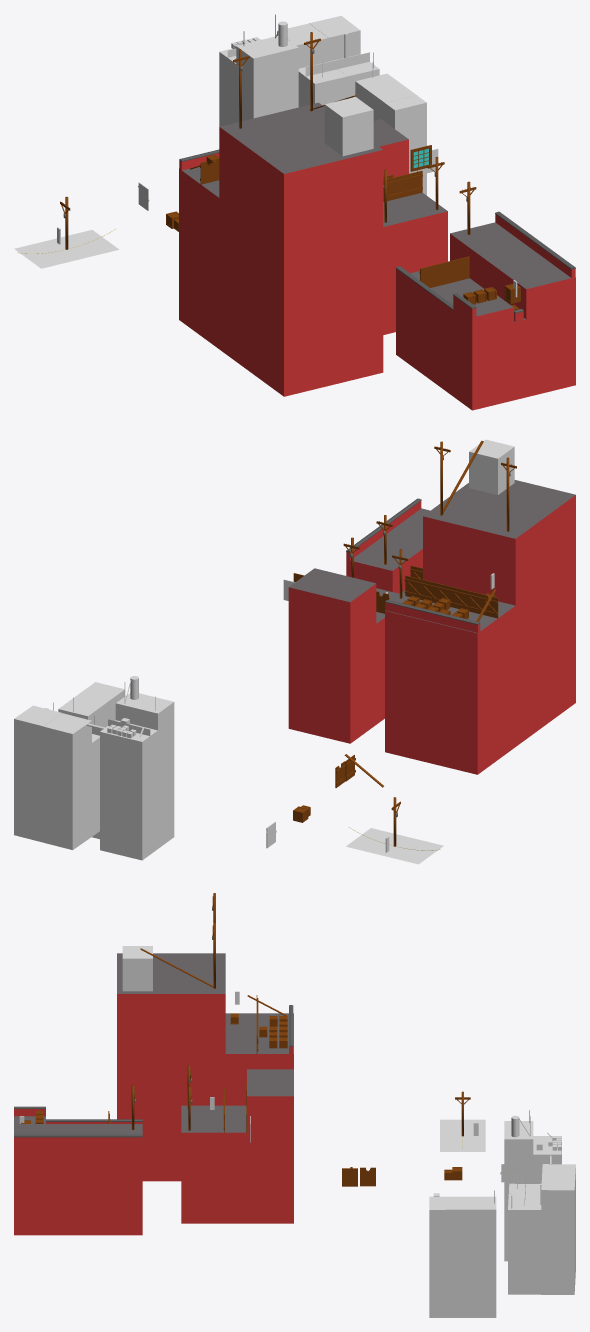
The model's file is Ledge.fbx.
3 renders of one model, top to bottom at view 1: azimuth 30°, elevation 25°; view 2: azimuth 150°, elevation 25°; view 3: azimuth 270°, elevation 25°, orthographic. The views are drawn at different scales.
Visible parts, largest first — view 1: Building3, Building1, Building2, Cube.002, Plane.001, Plane, Cube.025, Floor; view 2: Building3, Building2, Plane.001, Cube.002, Building1, Cube.025, Floor, Plane; view 3: Building3, Building2, Building1, Plane, Plane.001, Cube.002, Floor, Cube.025.
Boxes of the visible parts, <box> form: Building3: <box>179,102,383,396</box>; Building1: <box>396,222,575,410</box>; Building2: <box>373,119,447,334</box>; Cube.002: <box>219,33,348,126</box>; Plane.001: <box>277,15,379,107</box>; Plane: <box>355,73,426,195</box>; Cube.025: <box>324,97,373,156</box>; Floor: <box>14,230,119,268</box>; Building3: <box>385,480,575,774</box>; Building2: <box>288,568,405,743</box>; Plane.001: <box>14,705,102,850</box>; Cube.002: <box>45,693,174,860</box>; Building1: <box>346,508,429,594</box>; Cube.025: <box>469,439,514,494</box>; Floor: <box>346,828,443,864</box>; Plane: <box>58,682,124,839</box>; Building3: <box>117,953,293,1181</box>; Building2: <box>181,1069,293,1223</box>; Building1: <box>14,1116,142,1235</box>; Plane: <box>429,1196,496,1317</box>; Plane.001: <box>508,1164,575,1294</box>; Cube.002: <box>504,1121,561,1261</box>; Floor: <box>440,1119,485,1151</box>; Cube.025: <box>122,946,152,991</box>.
Size of the model in its own units: 4728 by 4057 by 6996.
